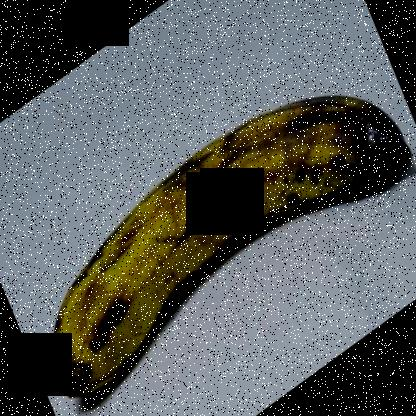overripe: (43, 75, 416, 415)
